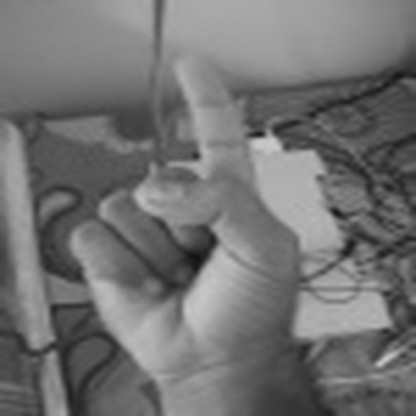d: (69, 45, 305, 374)
